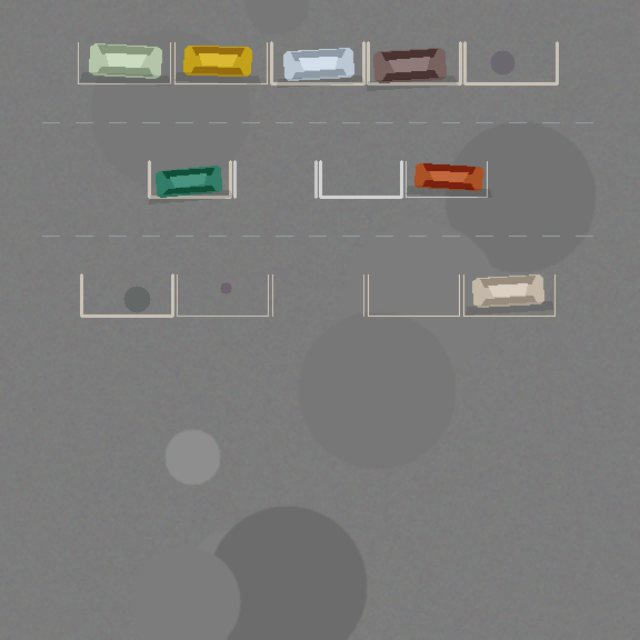space-empty: (81, 274, 172, 316), (177, 274, 268, 316), (272, 274, 363, 316), (368, 274, 459, 316), (464, 42, 557, 83), (234, 161, 316, 197), (320, 161, 401, 197)
space-occupied: (463, 274, 554, 316), (174, 42, 267, 83), (78, 42, 170, 83), (271, 42, 363, 83), (368, 42, 460, 83), (149, 161, 230, 197), (406, 161, 487, 197)
